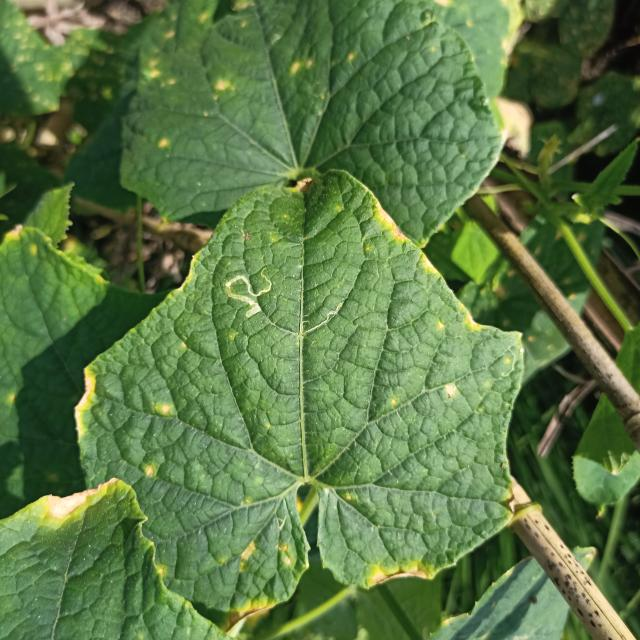disease_cucumber: (236, 533, 296, 577), (434, 309, 482, 338), (155, 400, 177, 418), (440, 380, 460, 399), (144, 464, 156, 478)
